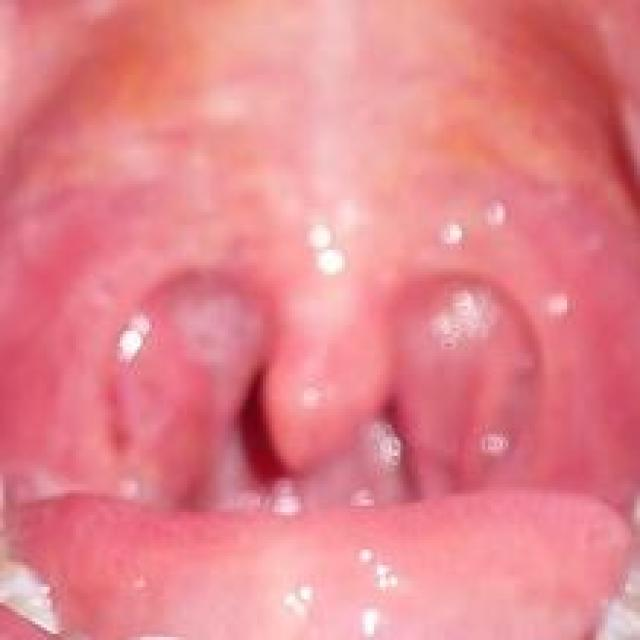Non Pharyngitis: (386, 230, 588, 467), (82, 233, 278, 467)
